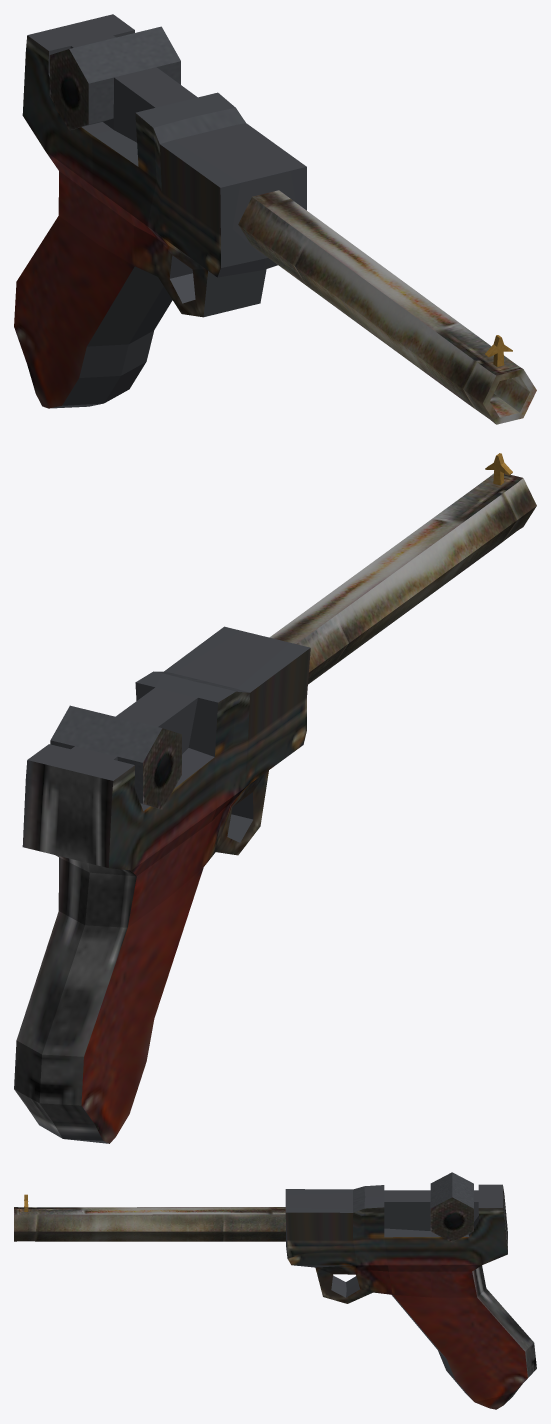
The model's file is LangePistole08_V4.fbx.
3 renders of one model, top to bottom at view 1: azimuth 30°, elevation 25°; view 2: azimuth 150°, elevation 25°; view 3: azimuth 270°, elevation 25°, orthographic. The views are drawn at different scales.
Visible parts, largest first — view 1: PistoleGriff, Muzzle, Reloader; view 2: PistoleGriff, Muzzle, Reloader; view 3: PistoleGriff, Muzzle, Reloader.
Part boxes in pixels (x1,y1,x2,y2): PistoleGriff: (14, 14, 306, 408); Muzzle: (238, 190, 536, 424); Reloader: (49, 26, 180, 130); PistoleGriff: (14, 626, 310, 1143); Muzzle: (269, 453, 536, 684); Reloader: (50, 705, 181, 809); PistoleGriff: (285, 1184, 536, 1409); Muzzle: (14, 1194, 285, 1241); Reloader: (430, 1172, 473, 1242).
Size of the model in its own units: 52.15 by 210 by 460.
1 material, 1 textured.
